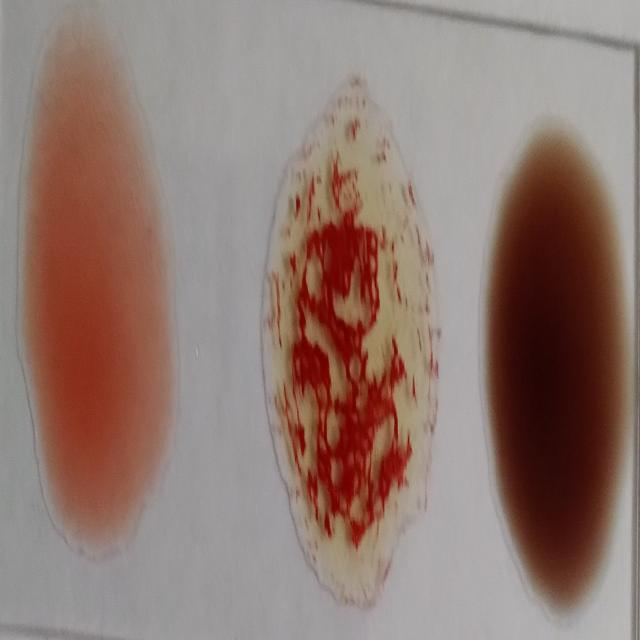B: (260, 74, 442, 601)
